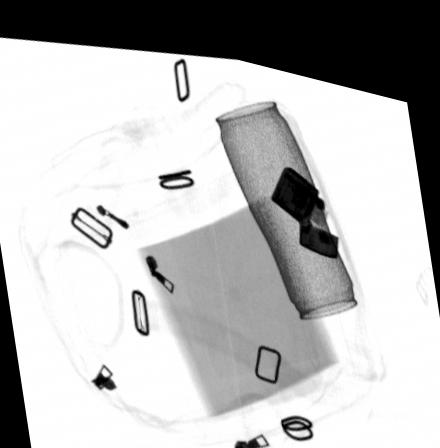Lighter: (269, 150, 340, 241)
